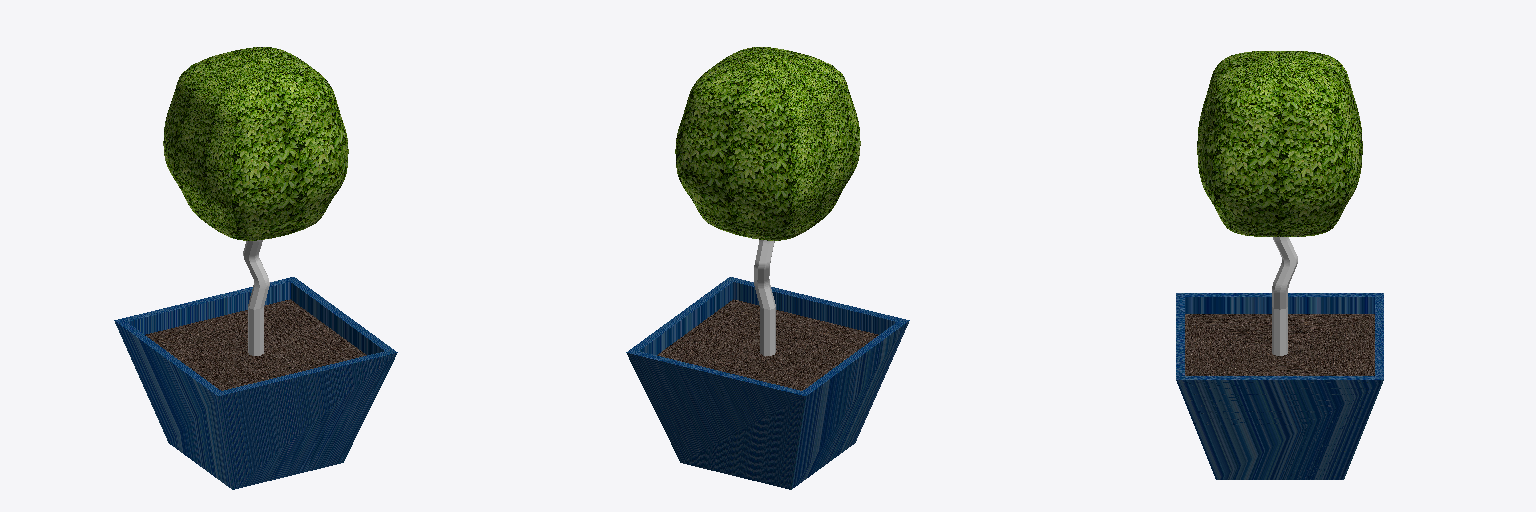
The picture shows the model from 3 angles: view 1: azimuth 30°, elevation 25°; view 2: azimuth 150°, elevation 25°; view 3: azimuth 270°, elevation 25°; orthographic projection.
Visible parts, largest first — view 1: Planta_Plane.001; view 2: Planta_Plane.001; view 3: Planta_Plane.001.
Part boxes in pixels (bbox=[...]): Planta_Plane.001: bbox=[114, 47, 397, 489]; Planta_Plane.001: bbox=[626, 47, 909, 489]; Planta_Plane.001: bbox=[1176, 51, 1383, 479].
Size of the model in its own units: 2.02 by 4.24 by 2.02.
4 materials, 3 textured.